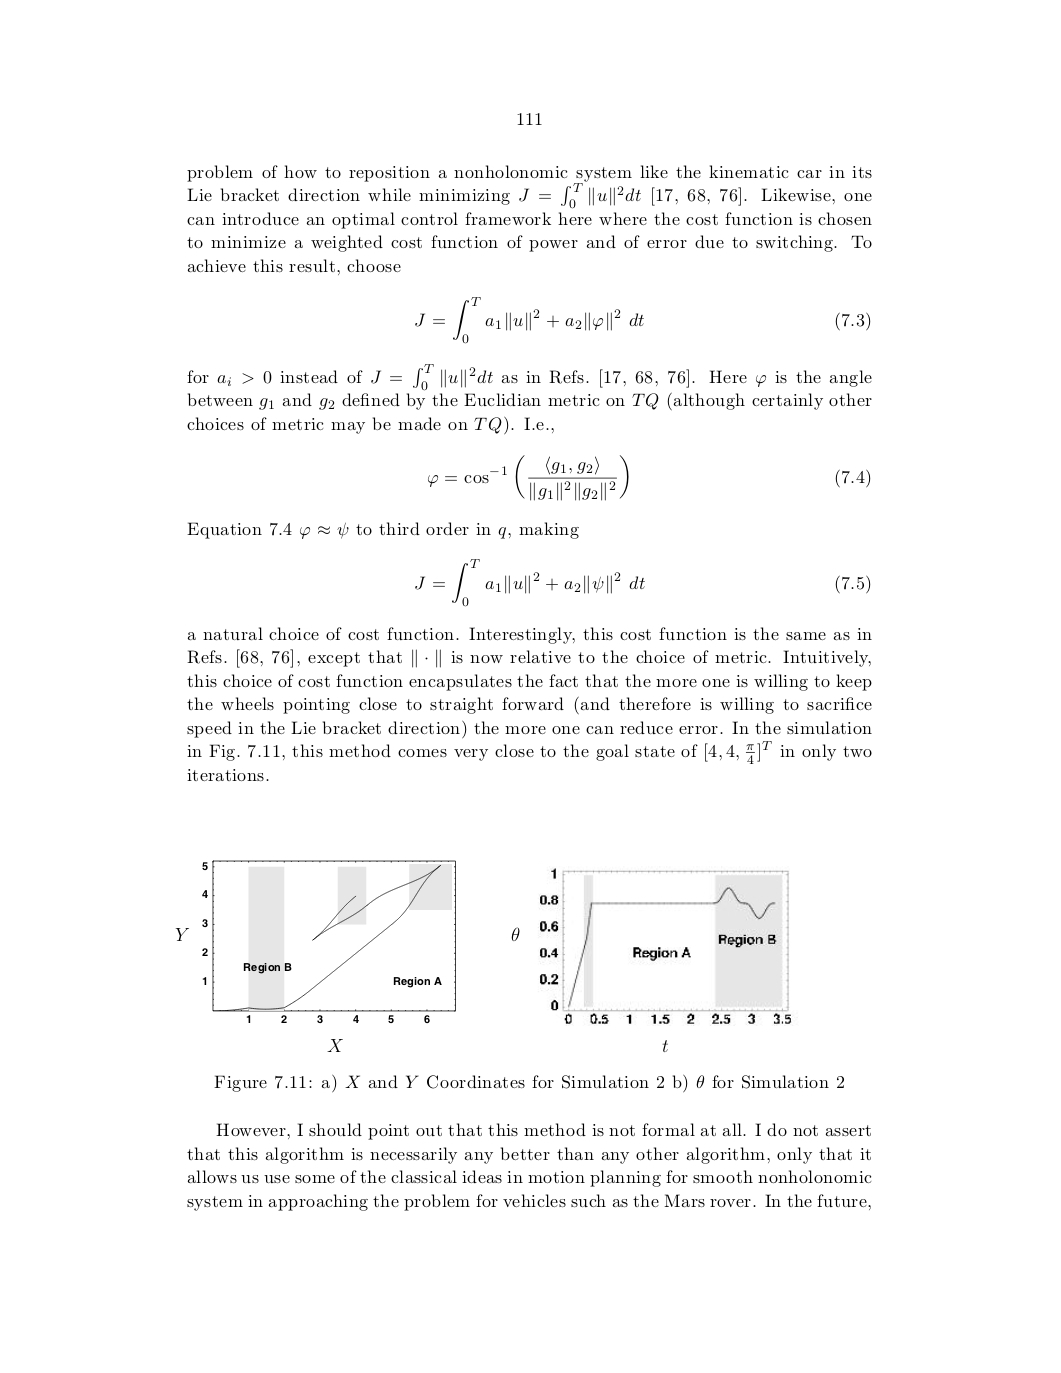figure: (175, 860, 455, 1051), (512, 868, 791, 1052)
formula: (415, 558, 870, 607), (415, 296, 870, 344), (428, 454, 870, 502)
